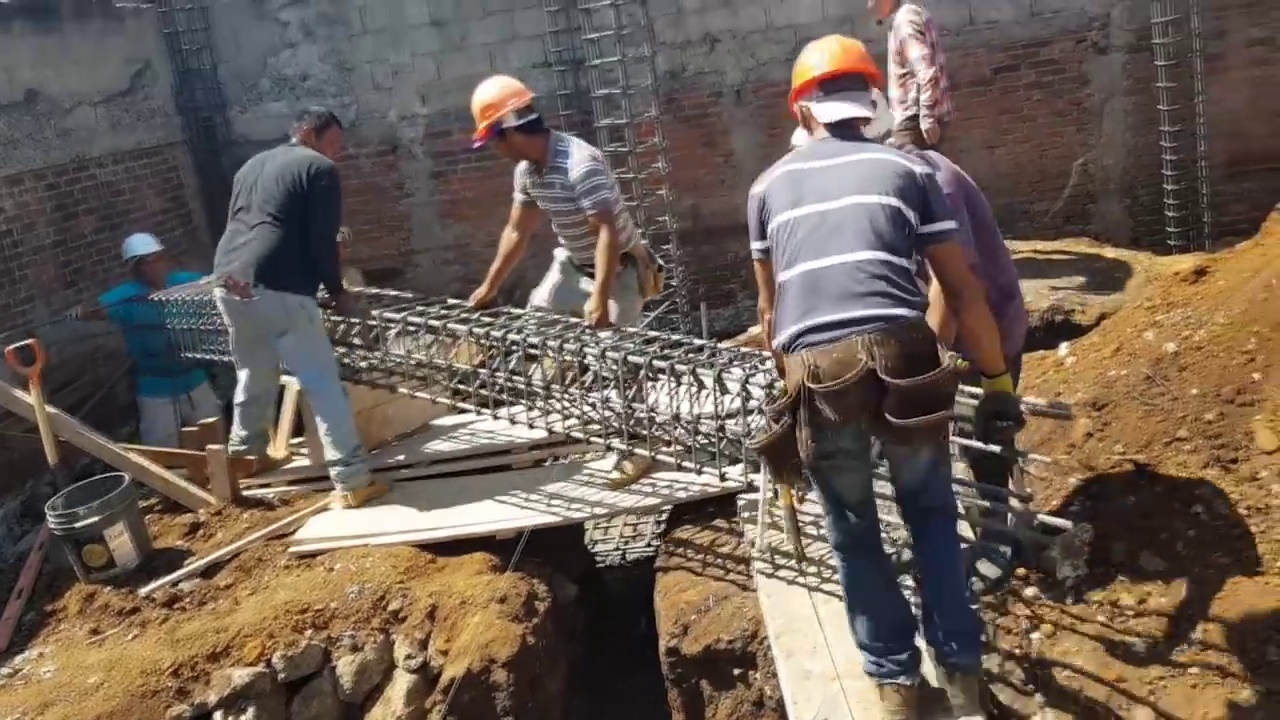helmet: (788, 32, 883, 106), (469, 74, 536, 152), (118, 232, 165, 263)
helmet-off: (281, 105, 347, 163), (865, 0, 903, 24)
helmet-on: (788, 32, 883, 149), (469, 74, 553, 166), (118, 232, 166, 285)
person: (745, 34, 1017, 720), (213, 105, 389, 510), (468, 73, 660, 327), (68, 232, 205, 449), (866, 1, 958, 159)
